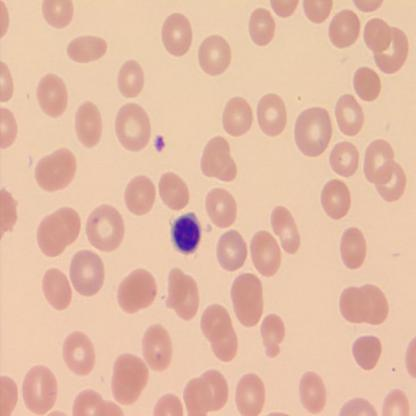NRC: (168, 208, 204, 254)
